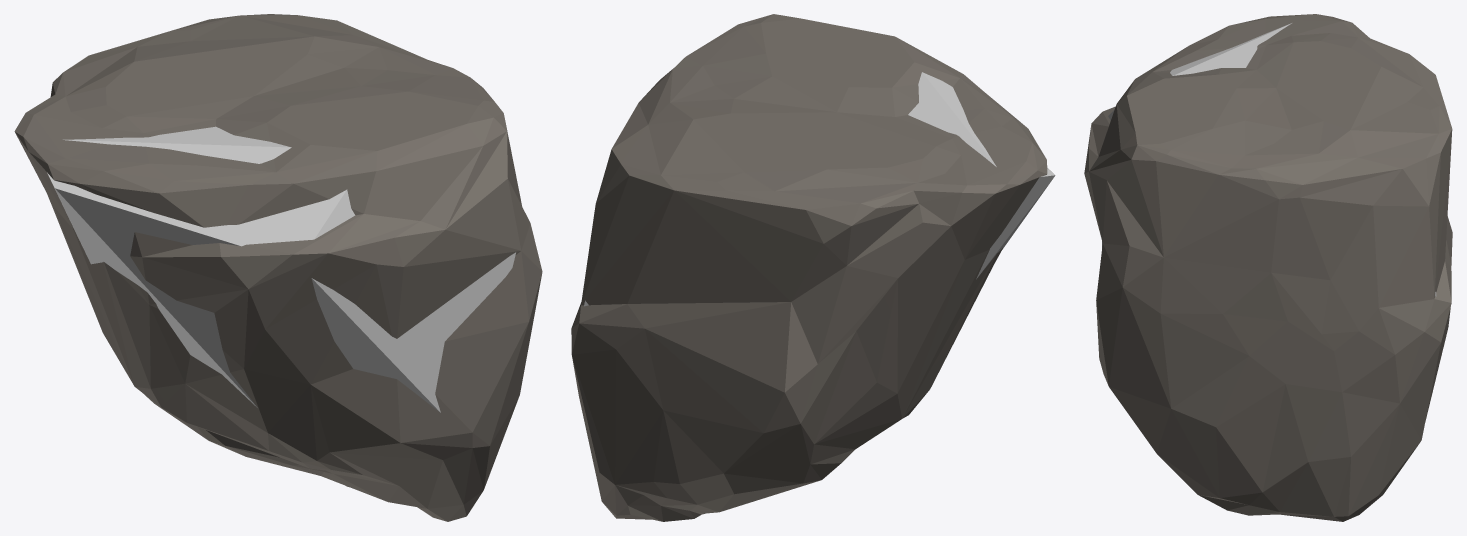
Rendered from SM_Env_Rock_Cliff_04.fbx.
The picture shows the model from 3 angles, left to right: view 1: azimuth 30°, elevation 25°; view 2: azimuth 150°, elevation 25°; view 3: azimuth 270°, elevation 25°; orthographic projection. The views are drawn at different scales.
Parts seen in each view (by area): view 1: SM_Env_Rock_Cliff_04, SM_Env_Rock_Cliff_04_ConvexHulls; view 2: SM_Env_Rock_Cliff_04, SM_Env_Rock_Cliff_04_ConvexHulls; view 3: SM_Env_Rock_Cliff_04, SM_Env_Rock_Cliff_04_ConvexHulls.
Boxes of the visible parts, bbox=[...] form: SM_Env_Rock_Cliff_04: bbox=[14, 14, 542, 521]; SM_Env_Rock_Cliff_04_ConvexHulls: bbox=[47, 126, 515, 412]; SM_Env_Rock_Cliff_04: bbox=[571, 14, 1047, 521]; SM_Env_Rock_Cliff_04_ConvexHulls: bbox=[584, 72, 1055, 306]; SM_Env_Rock_Cliff_04: bbox=[1084, 14, 1452, 521]; SM_Env_Rock_Cliff_04_ConvexHulls: bbox=[1102, 23, 1436, 296].
Bounding box in the file's own units: 998 × 928 × 1017.
2 materials, 1 textured.
